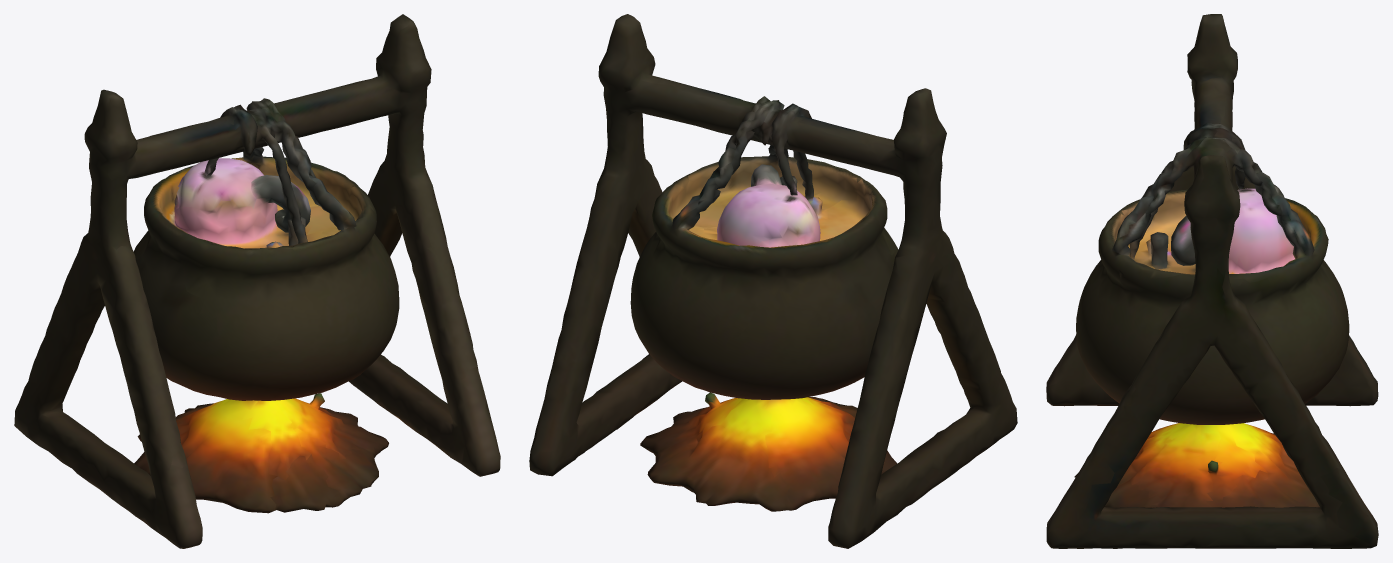
The model's file is halloween-cauldron.glb.
3 views of the same model, side by side, from view 1: azimuth 30°, elevation 25°; view 2: azimuth 150°, elevation 25°; view 3: azimuth 270°, elevation 25° (orthographic). The views are drawn at different scales.
Visible parts, largest first — view 1: geometry_0; view 2: geometry_0; view 3: geometry_0.
Part boxes in pixels (x1,y1,x2,y2): geometry_0: (14,14,500,548); geometry_0: (529,14,1017,548); geometry_0: (1046,14,1378,548).
Bounding box in the file's own units: 1.35 × 1.6 × 1.21.
Materials: 1 (1 with a texture image).
